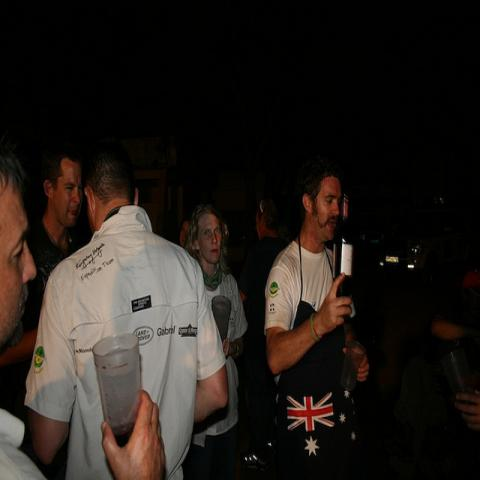car: (375, 212, 445, 296)
